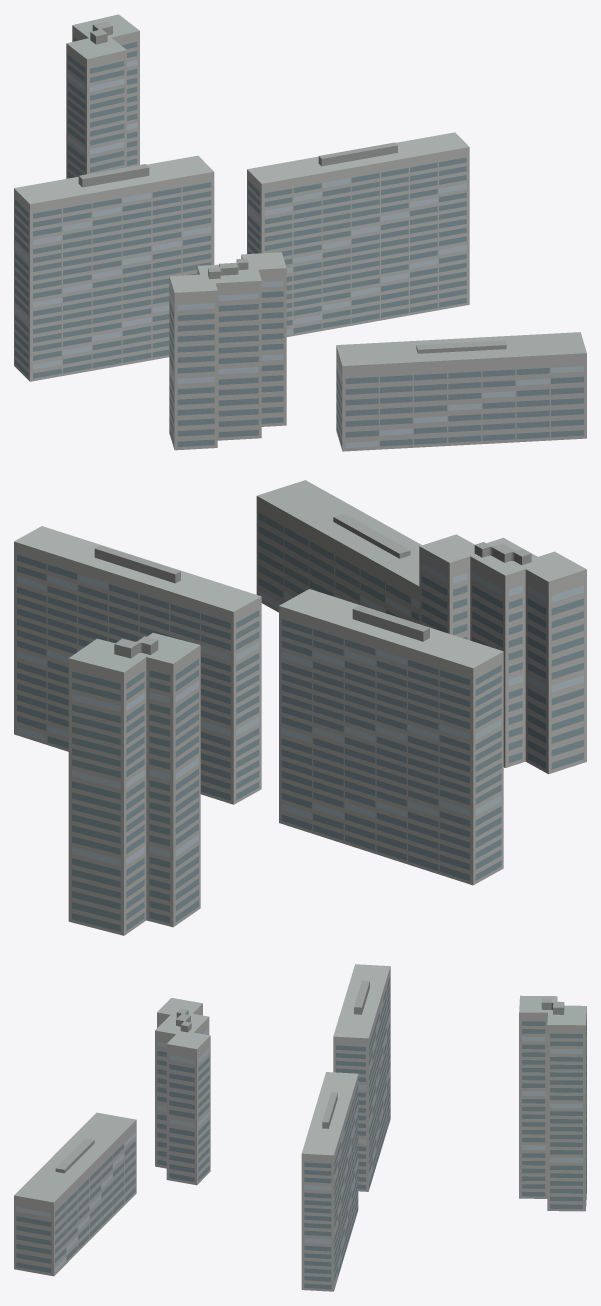
Rendered from apt-a14003001.glb.
3 renders of one model, top to bottom at view 1: azimuth 30°, elevation 25°; view 2: azimuth 150°, elevation 25°; view 3: azimuth 270°, elevation 25°, orthographic. The views are drawn at different scales.
Visible parts, largest first — view 1: apt-a14003001; view 2: apt-a14003001; view 3: apt-a14003001.
Part boxes in pixels (left/top/right/bottom): apt-a14003001: left=14, top=14, right=586, bottom=451; apt-a14003001: left=14, top=480, right=586, bottom=935; apt-a14003001: left=14, top=964, right=586, bottom=1291.
Size of the model in its own units: 126 by 65 by 175.
